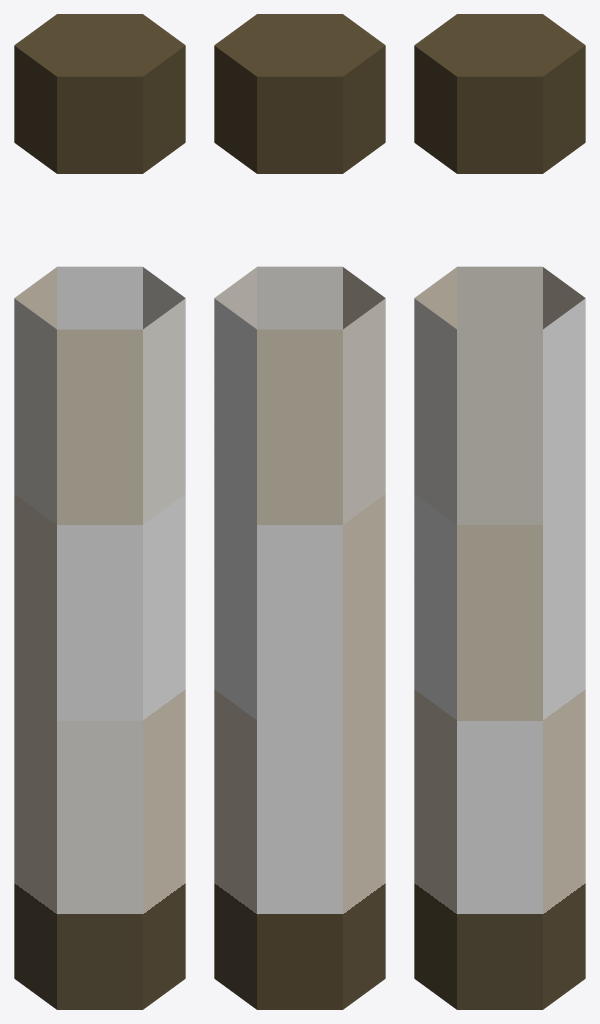
Rendered from ScrollOpen.fbx.
3 renders of one model, left to right at view 1: azimuth 30°, elevation 25°; view 2: azimuth 150°, elevation 25°; view 3: azimuth 270°, elevation 25°, orthographic.
Parts seen in each view (by area): view 1: Cylinder.001, Cylinder.002; view 2: Cylinder.001, Cylinder.002; view 3: Cylinder.001, Cylinder.002.
Part boxes in pixels (<box>): Cylinder.001: <box>14,266,185,1009</box>; Cylinder.002: <box>14,14,185,173</box>; Cylinder.001: <box>214,266,385,1009</box>; Cylinder.002: <box>214,14,385,173</box>; Cylinder.001: <box>414,266,585,1009</box>; Cylinder.002: <box>414,14,585,173</box>.
Size of the model in its own units: 34.64 by 240 by 40.
1 material, 1 textured.
